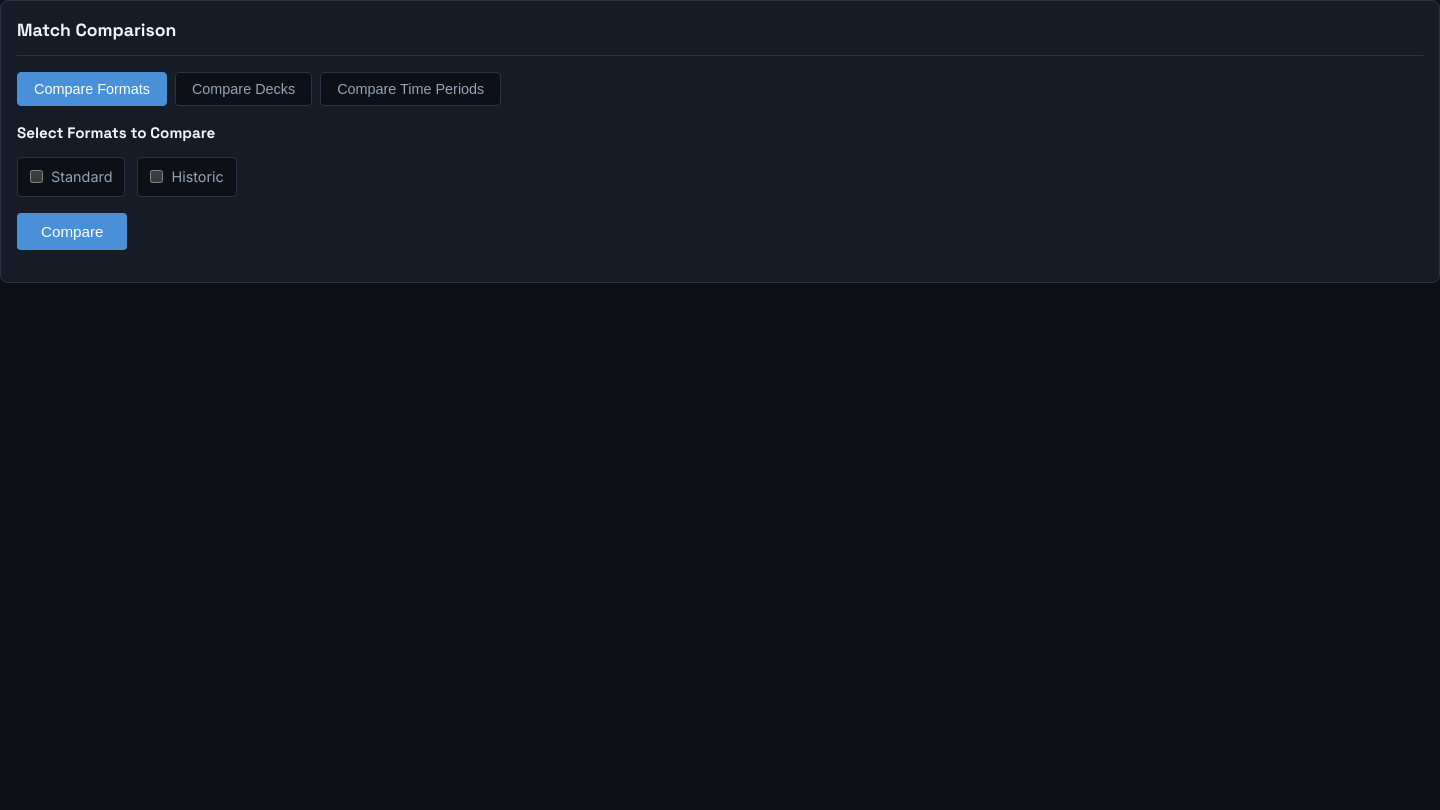
Test: MatchComparisonPanel › comparison execution › displays comparison results
Note: Select formats
Click the checkbox labelled "Standard" at (36, 177), box [30,170,43,184]
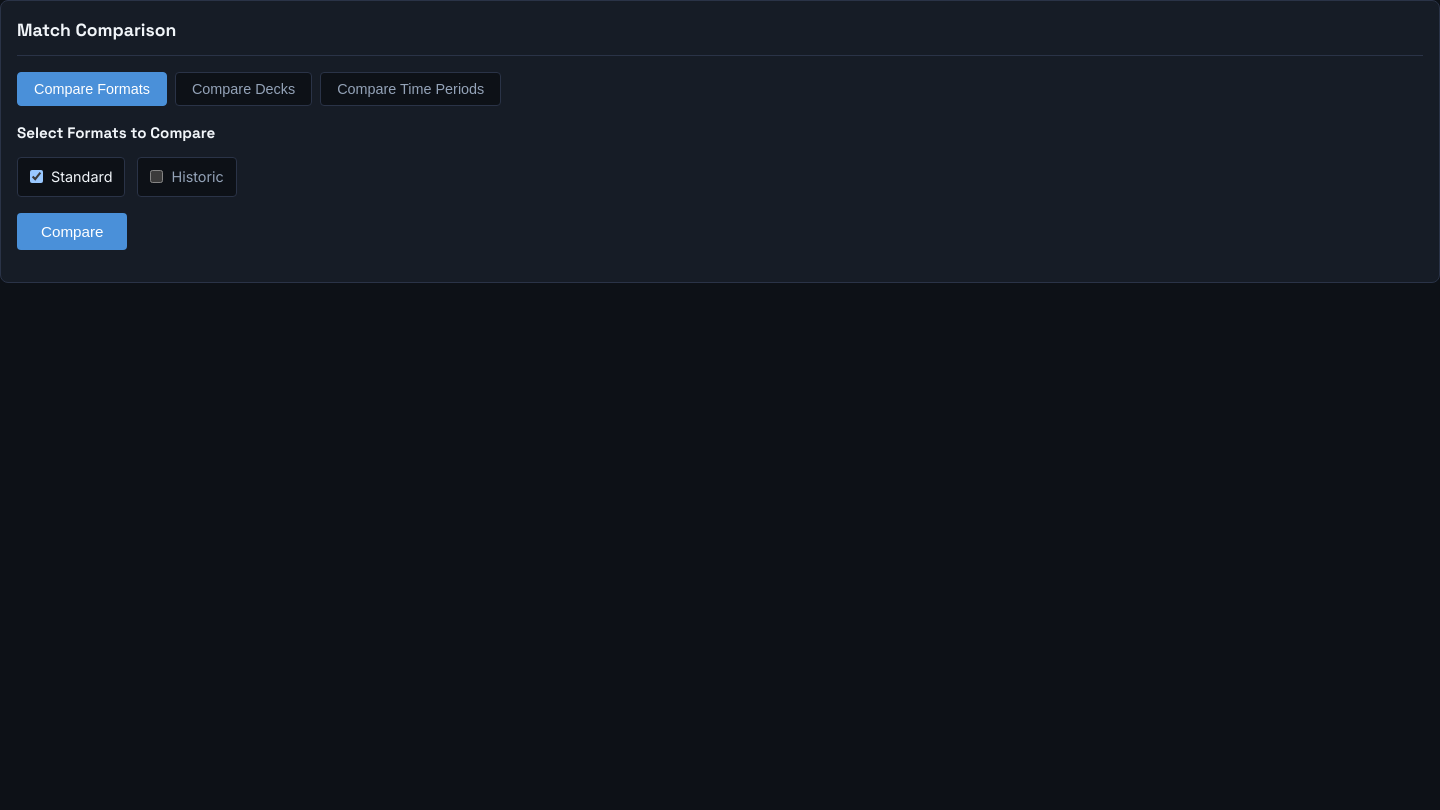
Click the checkbox labelled "Historic" at (157, 177), box [150,170,164,184]
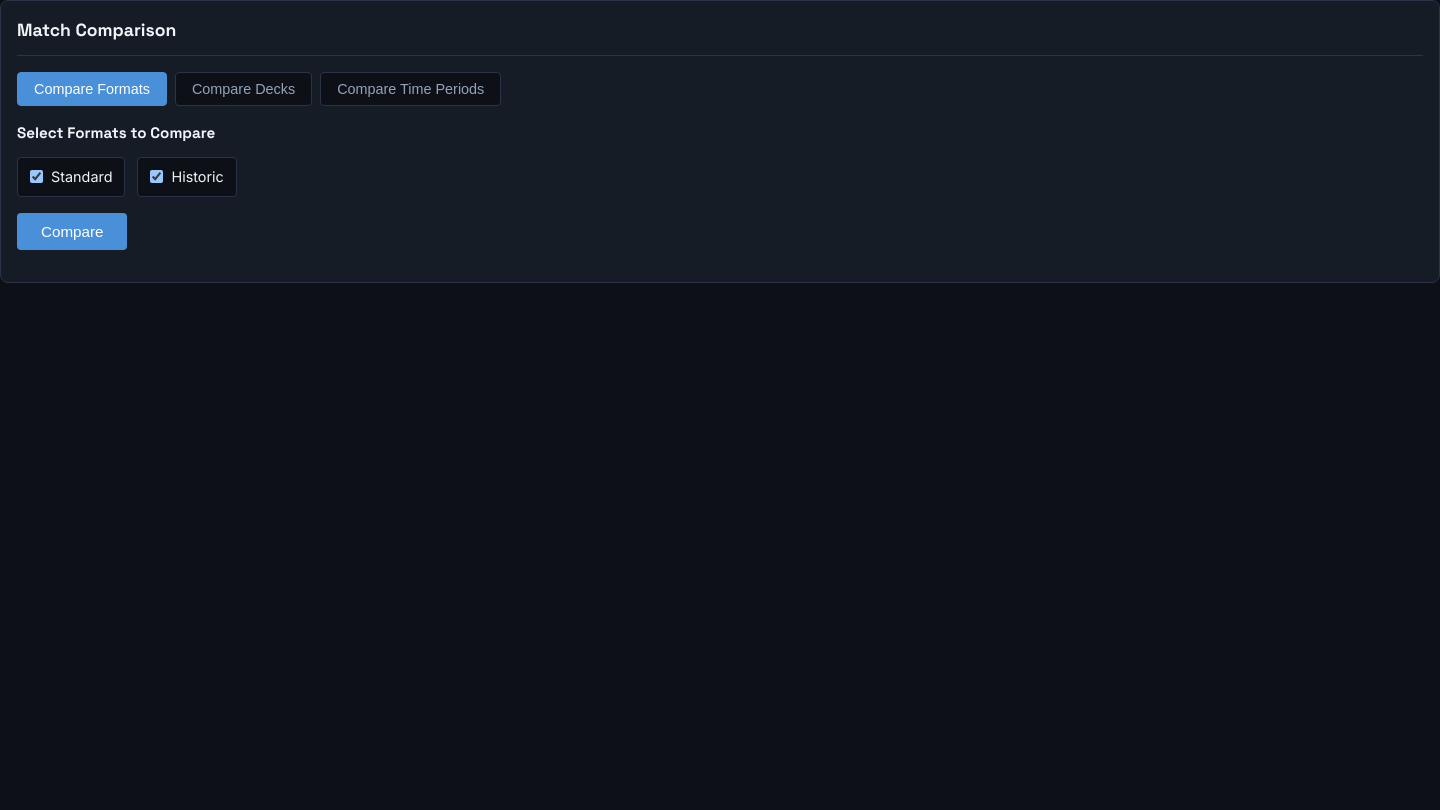
Note: Click compare
Click the button "Compare" at (72, 231), box [17,213,128,250]
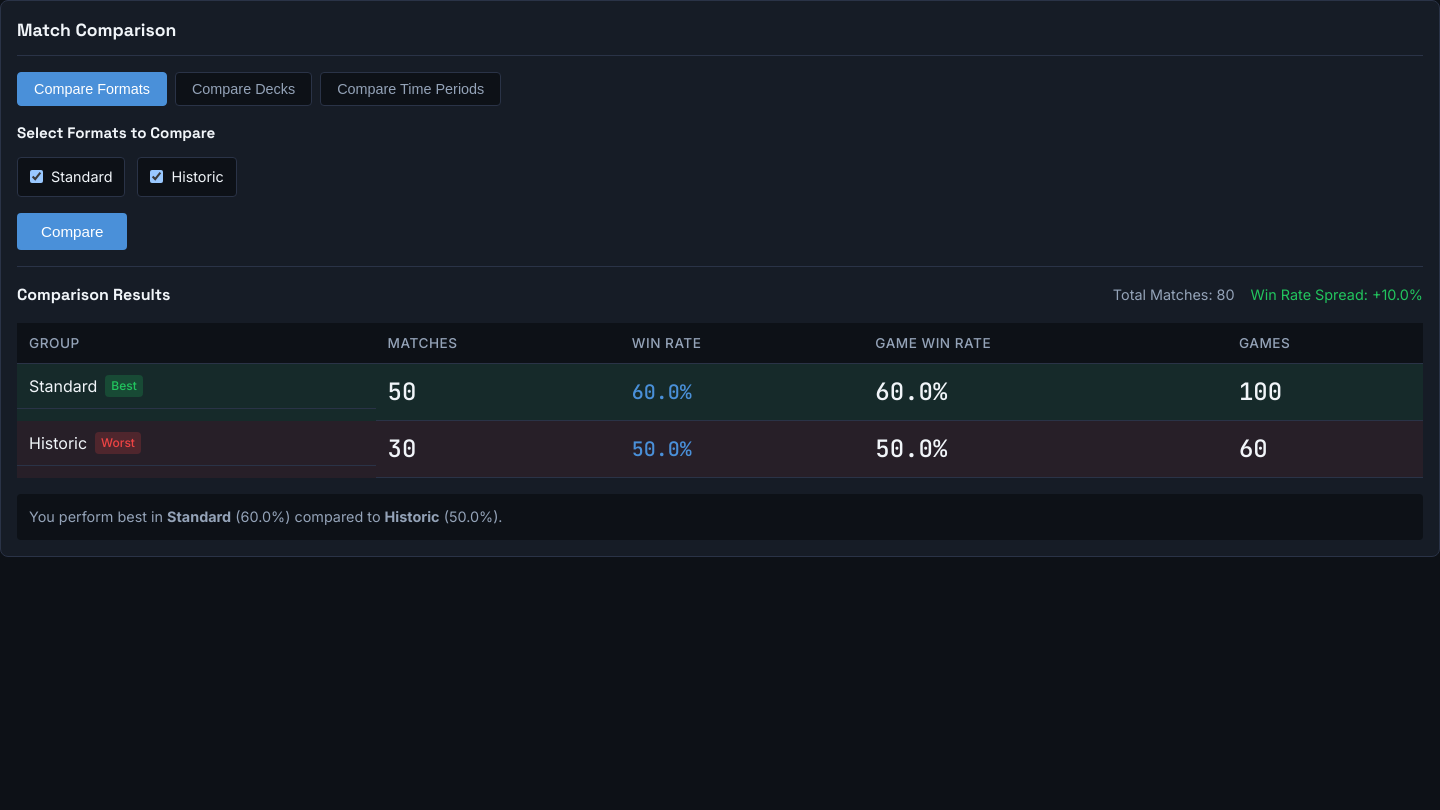
Expected: the heading "Comparison Results" is shown, [17,283,170,307]
Expected: the text "Total Matches: 80" is shown, [1113,284,1234,306]
Expected: the 1st text "60.0%" is shown, [620,364,863,421]
